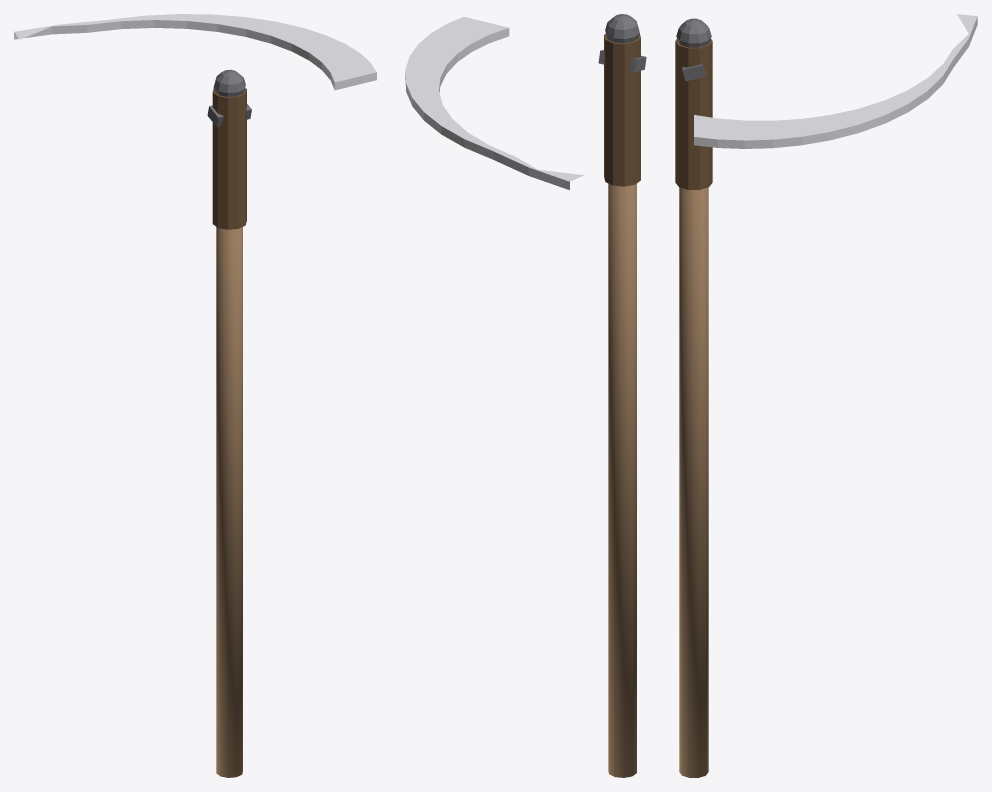
Rendered from scythe.glb.
The picture shows the model from 3 angles, left to right: view 1: azimuth 30°, elevation 25°; view 2: azimuth 150°, elevation 25°; view 3: azimuth 270°, elevation 25°; orthographic projection. The views are drawn at different scales.
Parts seen in each view (by area): view 1: Scythe; view 2: Scythe; view 3: Scythe.
Boxes of the visible parts, x1,y1,x2,y2 form: Scythe: (14, 14, 376, 777); Scythe: (405, 14, 646, 777); Scythe: (675, 14, 977, 777).
Size of the model in its own units: 0.5754 by 1.59 by 0.581.
